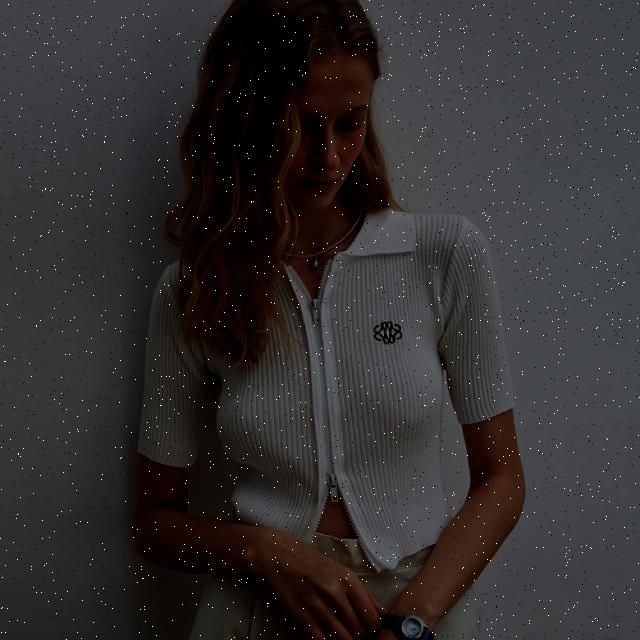dress: (137, 203, 517, 571)
